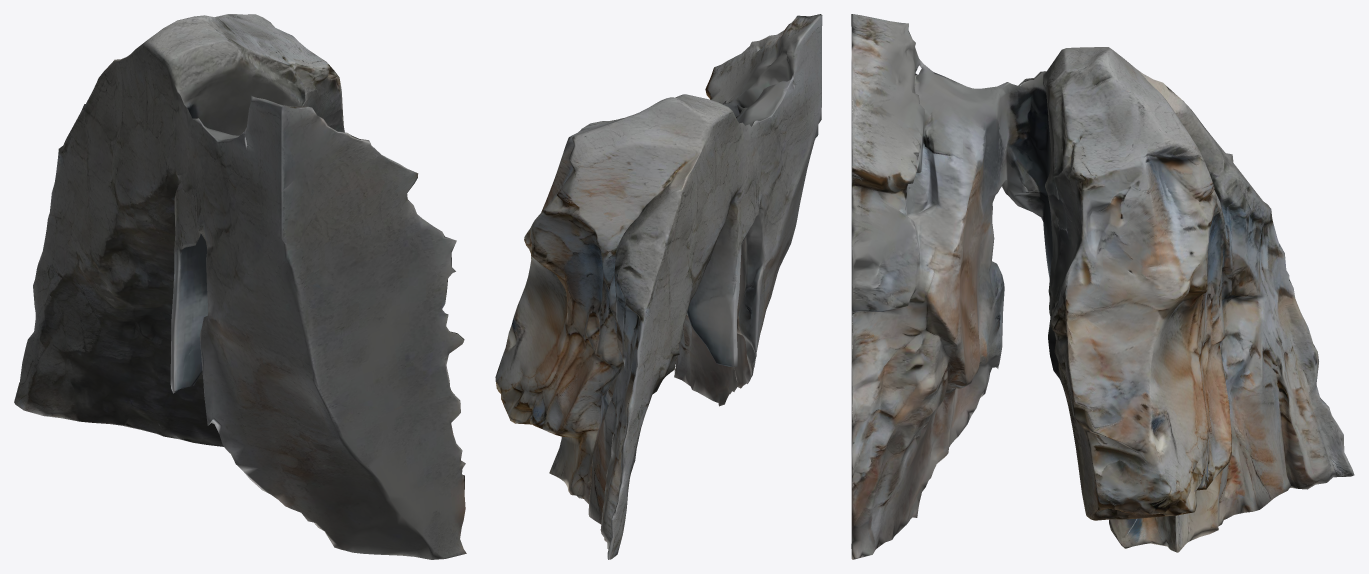
File: rock1.fbx
The picture shows the model from 3 angles, left to right: view 1: azimuth 30°, elevation 25°; view 2: azimuth 150°, elevation 25°; view 3: azimuth 270°, elevation 25°; orthographic projection. The views are drawn at different scales.
Visible parts, largest first — view 1: tripo_node_801d30b9; view 2: tripo_node_801d30b9; view 3: tripo_node_801d30b9.
Boxes of the visible parts, box(x1,y1,x2,y2) form: tripo_node_801d30b9: box(14, 14, 466, 559); tripo_node_801d30b9: box(495, 14, 822, 559); tripo_node_801d30b9: box(851, 14, 1354, 559).
Bounding box in the file's own units: 0.5213 × 1 × 0.9874.
1 material, 1 textured.
